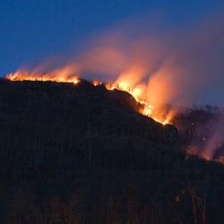fire: (5, 67, 176, 86), (126, 88, 176, 130)
